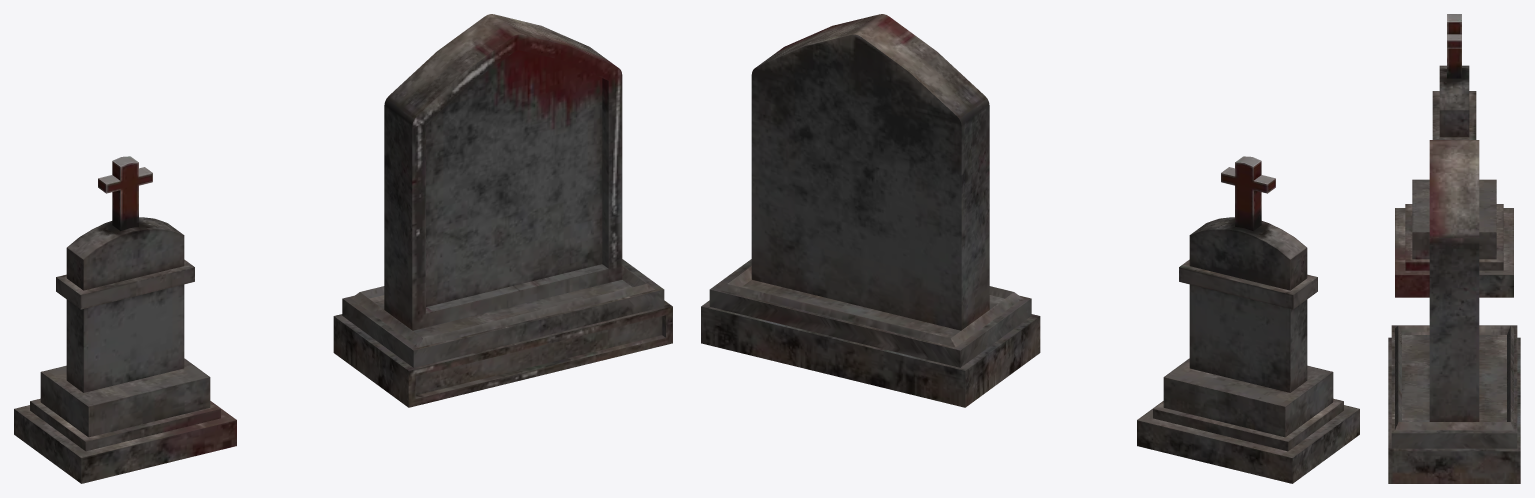
Rendered from graves.glb.
3 views of the same model, side by side, from view 1: azimuth 30°, elevation 25°; view 2: azimuth 150°, elevation 25°; view 3: azimuth 270°, elevation 25° (orthographic). The views are drawn at different scales.
Parts seen in each view (by area): view 1: polySurface4_Graves_base_Material_0; view 2: polySurface4_Graves_base_Material_0; view 3: polySurface4_Graves_base_Material_0.
Boxes of the visible parts, x1,y1,x2,y2 form: polySurface4_Graves_base_Material_0: [14, 14, 672, 483]; polySurface4_Graves_base_Material_0: [701, 14, 1359, 483]; polySurface4_Graves_base_Material_0: [1388, 14, 1520, 483].
Size of the model in its own units: 86.62 by 45.57 by 19.15.
1 material, 1 textured.
